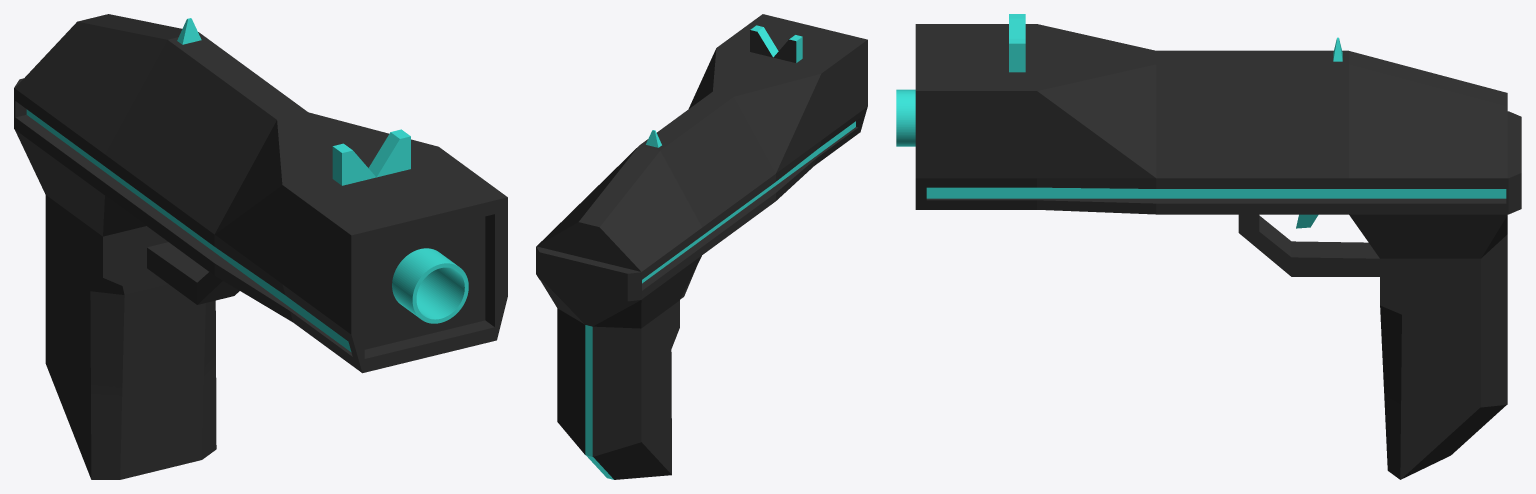
The model's file is spaceGun2.fbx.
3 views of the same model, side by side, from view 1: azimuth 30°, elevation 25°; view 2: azimuth 150°, elevation 25°; view 3: azimuth 270°, elevation 25° (orthographic). The views are drawn at different scales.
Parts seen in each view (by area): view 1: GunBody, ReloadBody, Magazine; view 2: GunBody, ReloadBody, Magazine; view 3: GunBody, ReloadBody, Magazine.
Part boxes in pixels (x1,y1,x2,y2): GunBody: [14, 78, 507, 387]; ReloadBody: [15, 14, 437, 234]; Magazine: [46, 356, 216, 479]; GunBody: [536, 14, 867, 456]; ReloadBody: [537, 48, 820, 271]; Magazine: [586, 413, 671, 479]; GunBody: [896, 14, 1521, 407]; ReloadBody: [1037, 24, 1507, 178]; Magazine: [1384, 388, 1506, 479].
Size of the model in its own units: 10 by 29.5 by 39.39.
